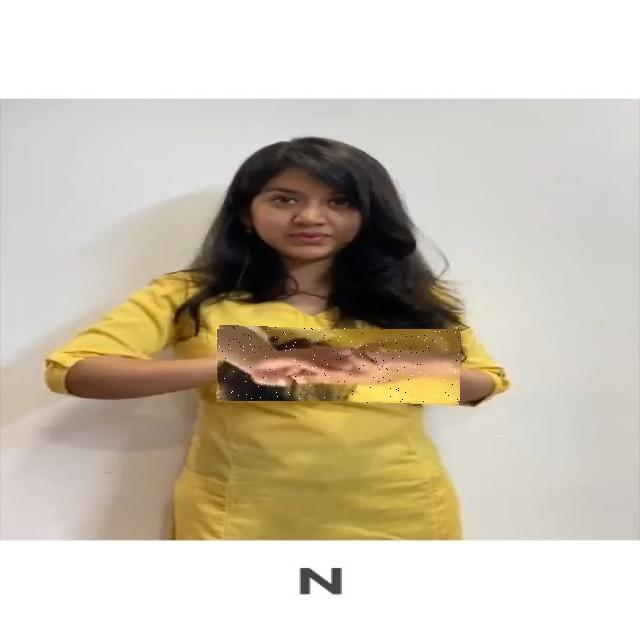N: (217, 327, 460, 403)
